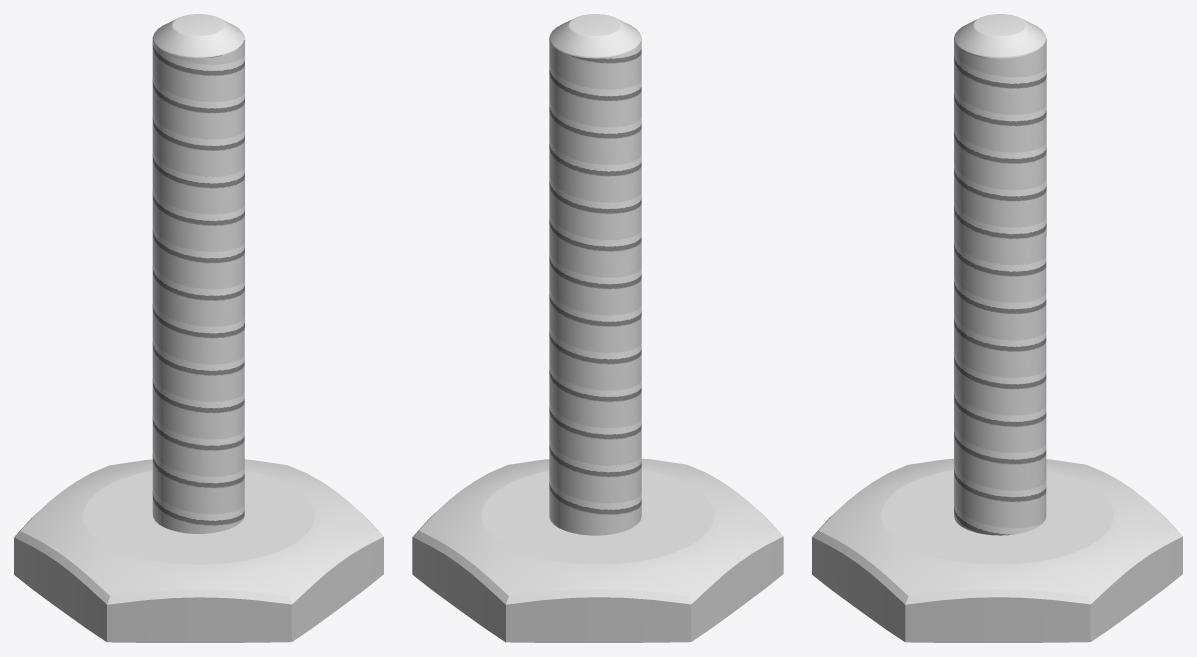
Rendered from screw .fbx.
3 views of the same model, side by side, from view 1: azimuth 30°, elevation 25°; view 2: azimuth 150°, elevation 25°; view 3: azimuth 270°, elevation 25° (orthographic).
Visible parts, largest first — view 1: Nut 1.010, Renderer_02.004; view 2: Nut 1.010, Renderer_02.004; view 3: Nut 1.010, Renderer_02.004.
Boxes of the visible parts, left/top/right/bottom form: Nut 1.010: left=14, top=459, right=383, bottom=642; Renderer_02.004: left=152, top=14, right=244, bottom=533; Nut 1.010: left=412, top=458, right=783, bottom=642; Renderer_02.004: left=549, top=14, right=641, bottom=535; Nut 1.010: left=812, top=458, right=1182, bottom=642; Renderer_02.004: left=954, top=14, right=1046, bottom=535.
Bounding box in the file's own units: 2.37 × 4.42 × 2.7.
